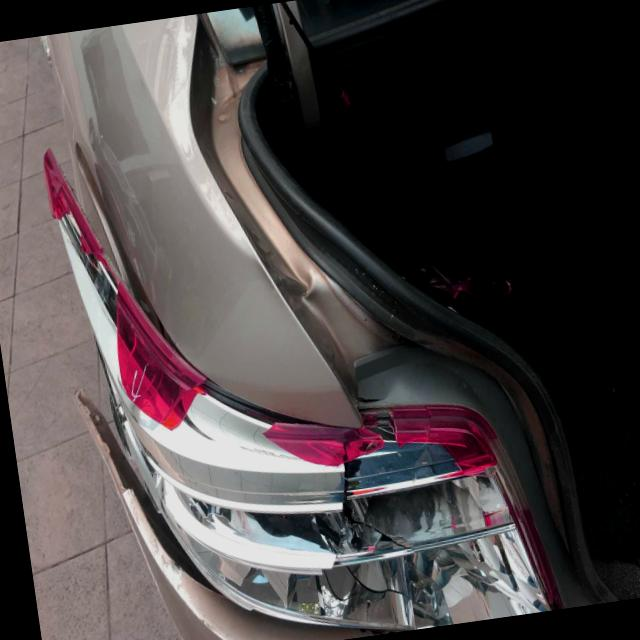Cabossage: (224, 141, 386, 392)
Dechirure: (36, 93, 550, 640), (345, 388, 397, 418)
